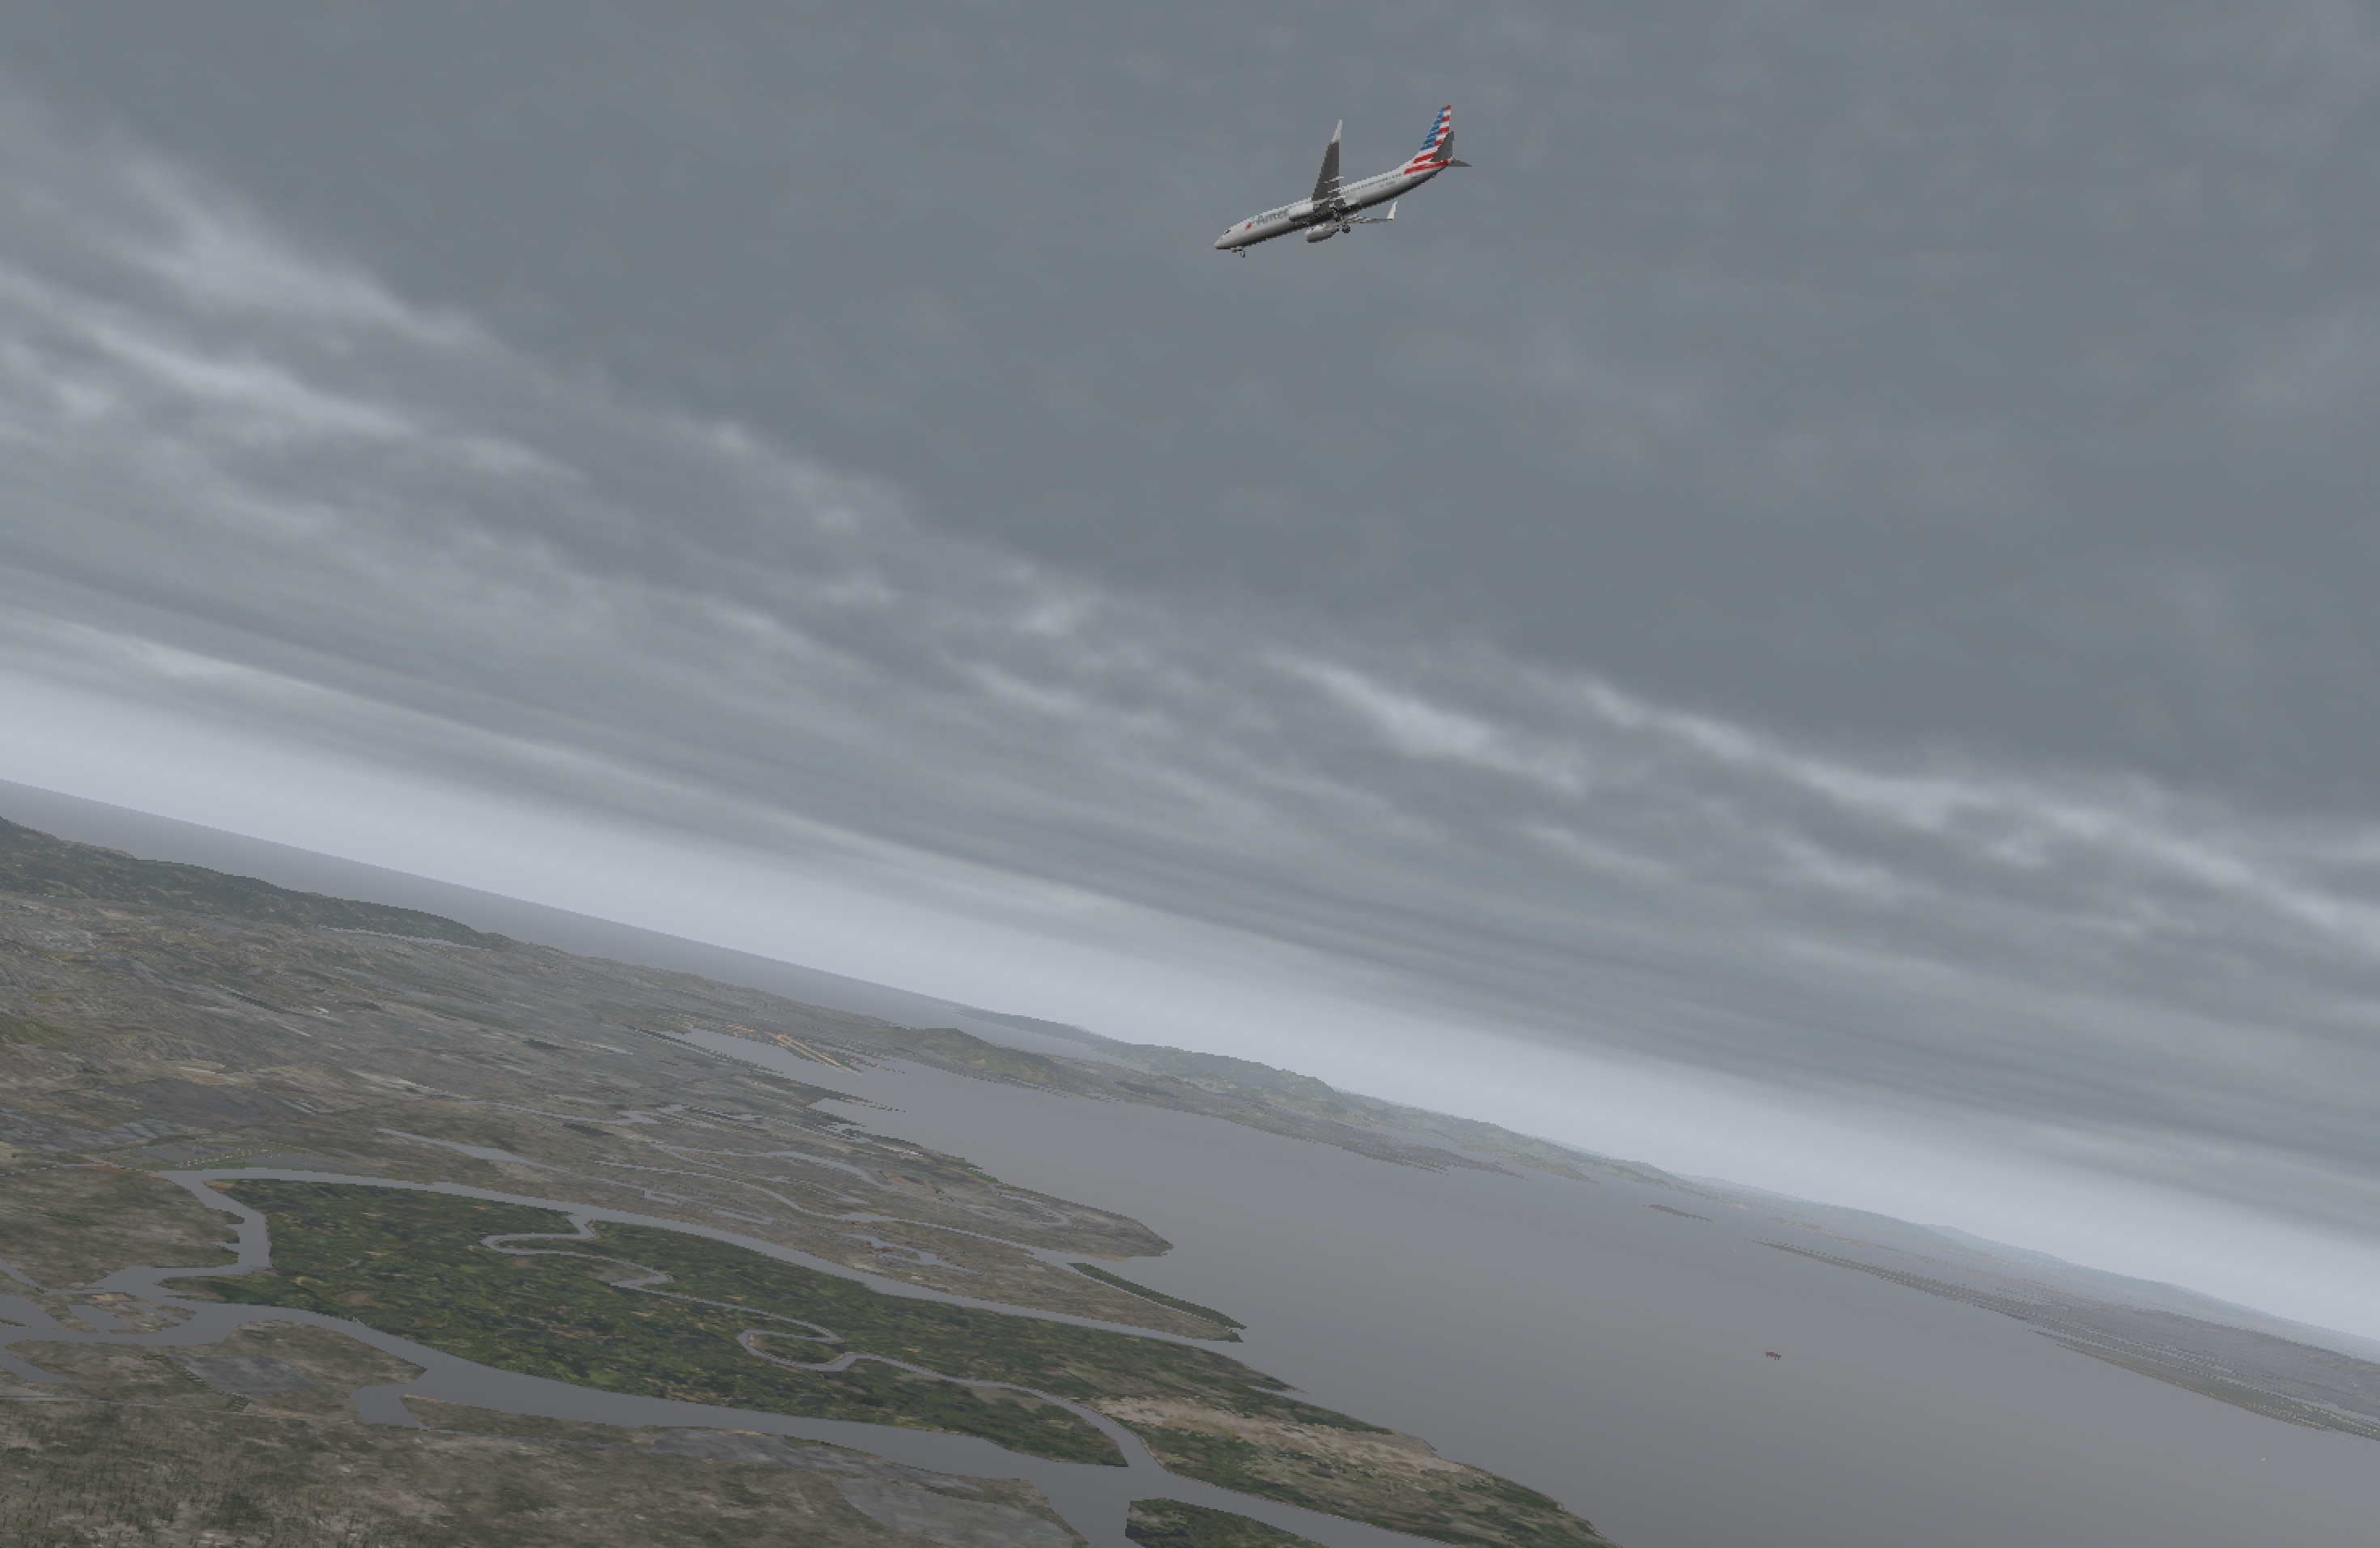aircraft: (1202, 163, 1455, 259)
